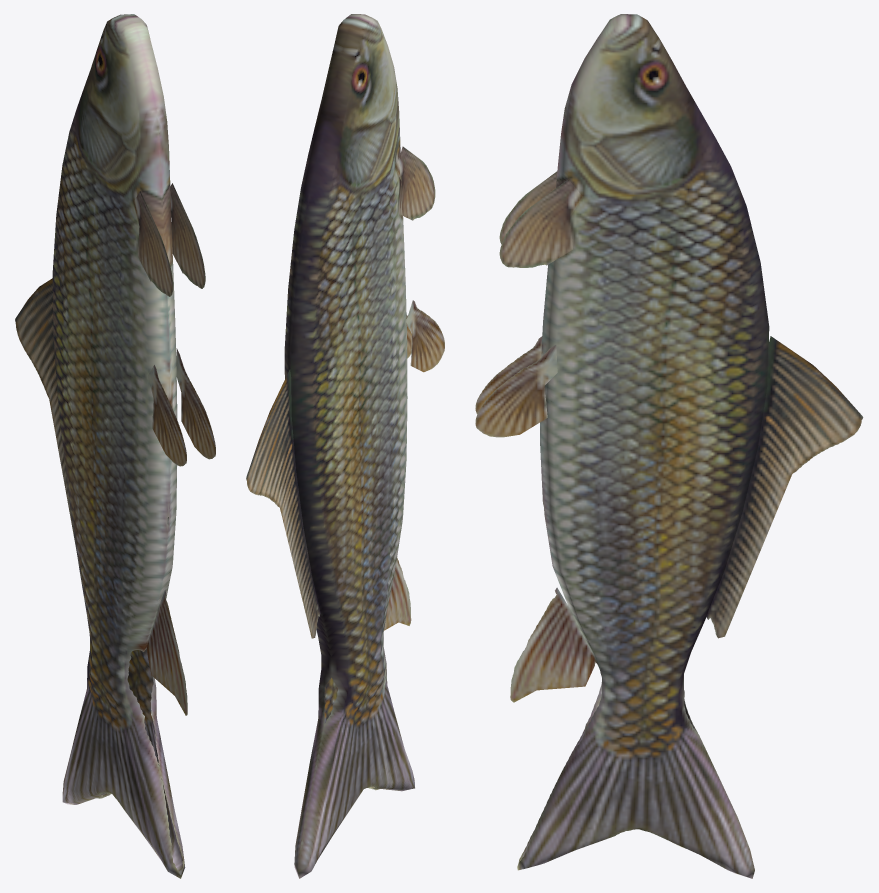
Rendered from fish.fbx.
The picture shows the model from 3 angles, left to right: view 1: azimuth 30°, elevation 25°; view 2: azimuth 150°, elevation 25°; view 3: azimuth 270°, elevation 25°; orthographic projection. The views are drawn at different scales.
Parts seen in each view (by area): view 1: fish; view 2: fish; view 3: fish.
Boxes of the visible parts, x1,y1,x2,y2 form: fish: (15, 14, 215, 878); fish: (246, 14, 444, 878); fish: (475, 14, 863, 878).
Size of the model in its own units: 24.35 by 209 by 508.
Materials: 1 (1 with a texture image).
